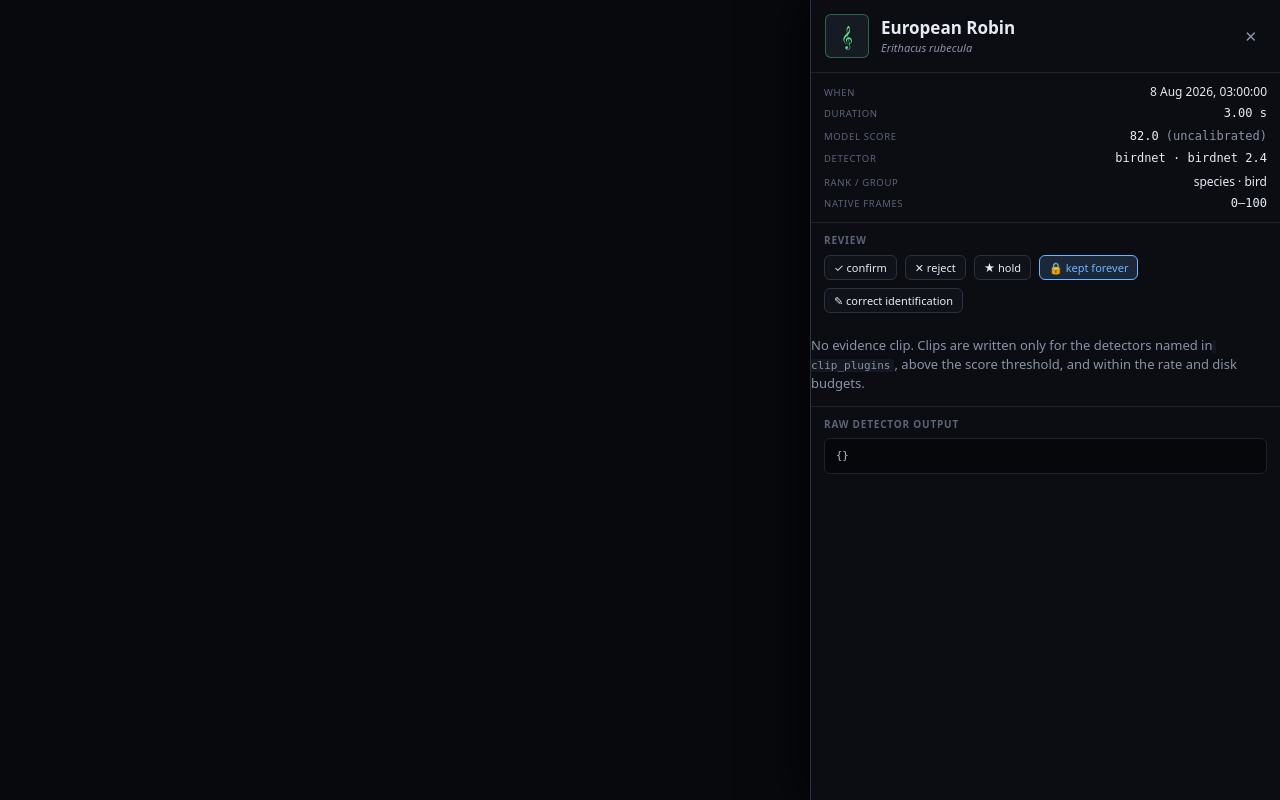
DetectionDrawer keep flag (ADR-061) › releases an already-kept recording
The width and height of the screenshot is (1280, 800).
Click the button "🔒 kept forever" at x=1089, y=267, box [1039,255,1138,280]
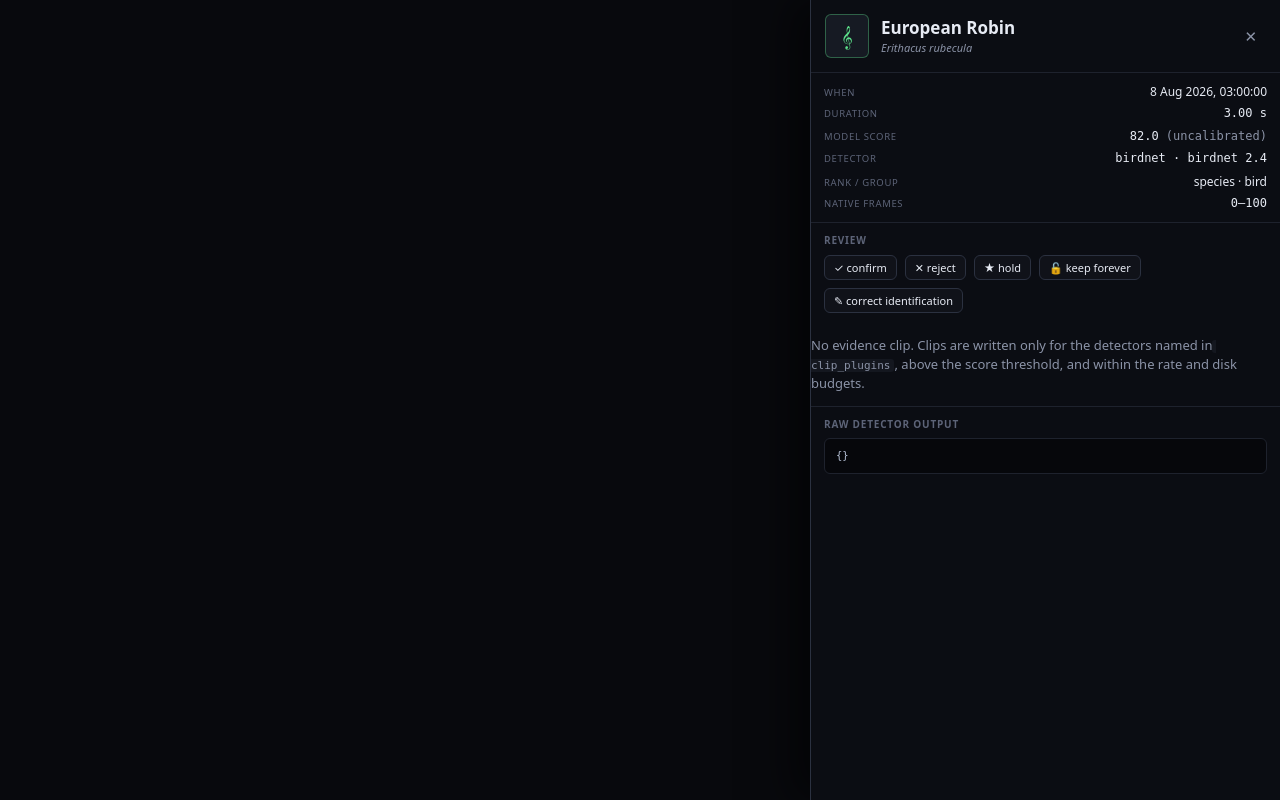
Result: the button "🔓 keep forever" is shown at [1039,255,1141,280]
